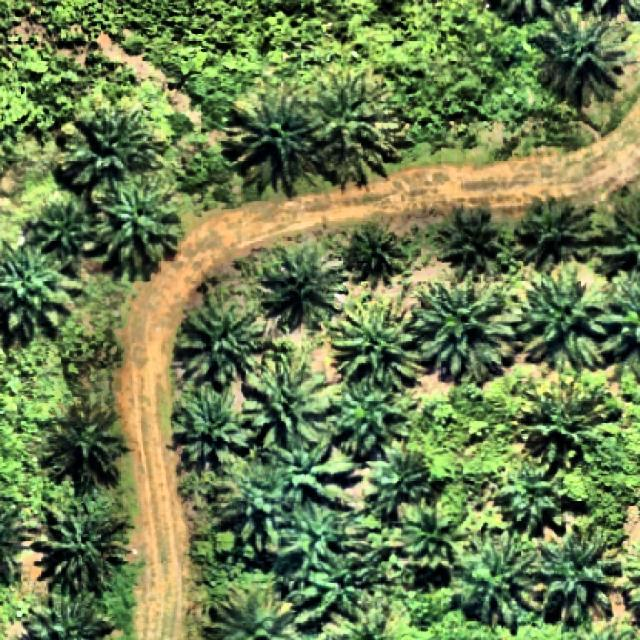Kelapa_Sawit: (304, 66, 412, 192), (51, 92, 164, 208), (419, 272, 518, 386), (223, 82, 320, 196), (33, 489, 133, 598), (240, 350, 332, 458), (90, 170, 181, 278), (536, 516, 624, 626), (517, 264, 606, 370), (330, 297, 427, 394), (518, 370, 612, 470), (176, 286, 262, 392), (538, 10, 626, 112), (260, 234, 348, 330), (460, 530, 540, 635), (265, 430, 364, 510), (48, 398, 130, 494), (172, 383, 258, 471), (215, 472, 300, 560), (516, 194, 604, 268), (390, 496, 472, 572), (332, 386, 410, 462), (439, 202, 508, 284), (502, 459, 568, 533), (345, 216, 407, 282), (38, 199, 88, 259)
